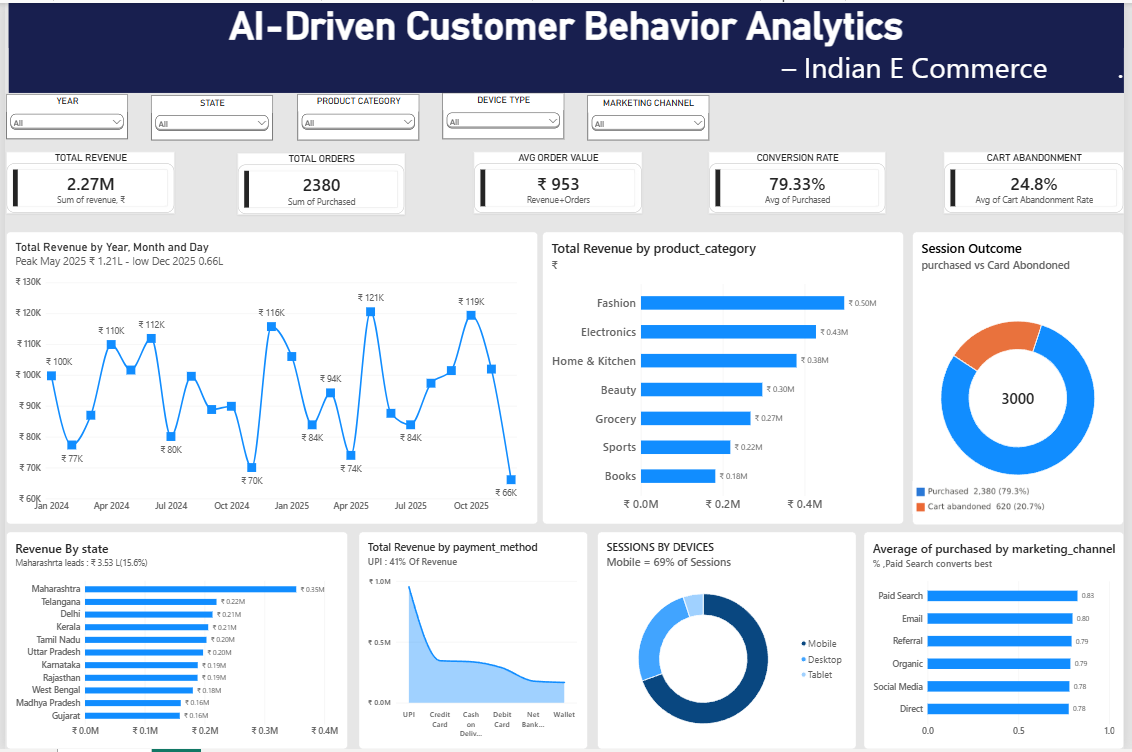

The page's visual inventory and layout, read from the dashboard file:
{"tool":"powerbi","page":{"name":"Page 1","canvas":[2100,1400],"ordinal":0},"visuals":[{"type":"slicer","title":"YEAR","fields":{"Values":["customer_behavior_clean.month"]},"box":[2,172,228,84],"z":0},{"type":"textbox","title":"AI-Driven Customer Behavior Analytics ","box":[7,0,2092.5,168.9],"z":2},{"type":"cardVisual","title":"TOTAL REVENUE","fields":{"Data":["customer_behavior_clean.Total Revenue"]},"box":[2,280,316,116],"z":8},{"type":"slicer","title":"STATE","fields":{"Values":["customer_behavior_clean.state"]},"box":[274,174,228,84],"z":9},{"type":"slicer","title":"PRODUCT CATEGORY","fields":{"Values":["customer_behavior_clean.product_category"]},"box":[550,172,228,86],"z":10},{"type":"slicer","title":"DEVICE TYPE","fields":{"Values":["customer_behavior_clean.device_type"]},"box":[822,170,228,86],"z":11},{"type":"slicer","title":"MARKETING CHANNEL","fields":{"Values":["customer_behavior_clean.marketing_channel"]},"box":[1094,174,228,84],"z":12},{"type":"cardVisual","title":"TOTAL ORDERS","fields":{"Data":["customer_behavior_clean.Total Orders"]},"box":[436.3,281.5,314,116],"z":13},{"type":"cardVisual","title":"AVG ORDER VALUE","fields":{"Data":["customer_behavior_clean.Avg Order Value"]},"box":[879.7,279.2,316,116],"z":14},{"type":"cardVisual","title":"CONVERSION RATE","fields":{"Data":["customer_behavior_clean.Conversion Rate"]},"box":[1320.7,279.2,332,116],"z":15},{"type":"cardVisual","title":"CART ABANDONMENT","fields":{"Data":["customer_behavior_clean.Cart Abandonment Rate"]},"box":[1761.7,279.2,338,116],"z":16},{"type":"lineChart","fields":{"Category":["customer_behavior_clean.month.Variation.Date Hierarchy.Year","customer_behavior_clean.month.Variation.Date Hierarchy.Month","customer_behavior_clean.month.Variation.Date Hierarchy.Day"],"Y":["customer_behavior_clean.Total Revenue"]},"box":[2.2,429.1,997.7,548.9],"z":17},{"type":"barChart","fields":{"Category":["customer_behavior_clean.product_category"],"Y":["customer_behavior_clean.Total Revenue"]},"box":[1008.6,429.1,677.4,548.9],"z":18},{"type":"donutChart","title":"Session Outcome","fields":{"Category":["customer_behavior_clean.purchased","customer_behavior_clean.cart_abandoned"],"Y":["CountNonNull(customer_behavior_clean.customer_id)"]},"box":[1704,428.8,395.6,550.3],"z":19},{"type":"donutChart","title":"SESSIONS BY DEVICES","fields":{"Category":["customer_behavior_clean.device_type"],"Y":["Sum(customer_behavior_clean.session_duration_min)"]},"box":[1111.9,992.3,485.6,408.2],"z":20},{"type":"image","box":[1704,866.4,267.9,124.2],"z":22},{"type":"clusteredBarChart","fields":{"Category":["customer_behavior_clean.marketing_channel"],"Y":["Avg(customer_behavior_clean.purchased)"]},"box":[1611.6,992.3,487.9,408.2],"z":23},{"type":"barChart","title":" Revenue By state","fields":{"Category":["customer_behavior_clean.state"],"Y":["customer_behavior_clean.Total Revenue"]},"box":[2.3,992.3,640.4,408.2],"z":24},{"type":"areaChart","fields":{"Category":["customer_behavior_clean.payment_method"],"Y":["customer_behavior_clean.Total Revenue"]},"box":[663.9,992.3,429.3,408.2],"z":25}]}

Visuals, with their boxes in screenshot pixels (x1, y1, x2, y2), scaled from the page's 2100x1400 canvas onto the 1132x752 screenshot:
"YEAR" slicer: detection(1, 92, 124, 138)
"AI-Driven Customer Behavior Analytics " textbox: detection(4, 0, 1131, 91)
"TOTAL REVENUE" cardVisual: detection(1, 150, 171, 213)
"STATE" slicer: detection(148, 93, 271, 139)
"PRODUCT CATEGORY" slicer: detection(296, 92, 419, 139)
"DEVICE TYPE" slicer: detection(443, 91, 566, 138)
"MARKETING CHANNEL" slicer: detection(590, 93, 713, 139)
"TOTAL ORDERS" cardVisual: detection(235, 151, 404, 214)
"AVG ORDER VALUE" cardVisual: detection(474, 150, 645, 212)
"CONVERSION RATE" cardVisual: detection(712, 150, 891, 212)
"CART ABANDONMENT" cardVisual: detection(950, 150, 1131, 212)
lineChart - customer_behavior_clean.month.Variation.Date Hierarchy.Year x customer_behavior_clean.month.Variation.Date Hierarchy.Month: detection(1, 230, 539, 525)
barChart - customer_behavior_clean.product_category x customer_behavior_clean.Total Revenue: detection(544, 230, 909, 525)
"Session Outcome" donutChart: detection(919, 230, 1131, 526)
"SESSIONS BY DEVICES" donutChart: detection(599, 533, 861, 751)
image: detection(919, 465, 1063, 532)
clusteredBarChart - customer_behavior_clean.marketing_channel x Avg(customer_behavior_clean.purchased): detection(869, 533, 1131, 751)
" Revenue By state" barChart: detection(1, 533, 346, 751)
areaChart - customer_behavior_clean.payment_method x customer_behavior_clean.Total Revenue: detection(358, 533, 589, 751)
